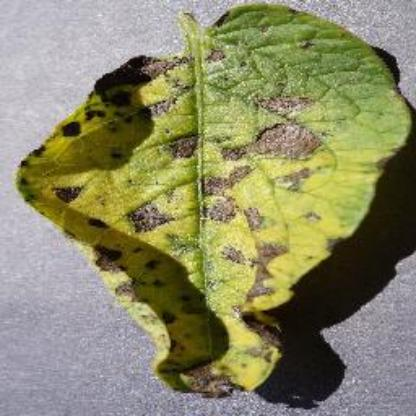Early-Blight: (18, 6, 408, 398)
